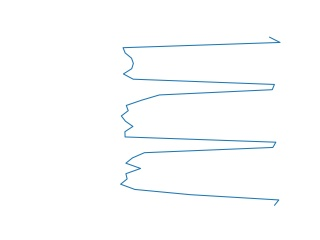majorRiverChannelBar: (119, 38, 285, 206)
